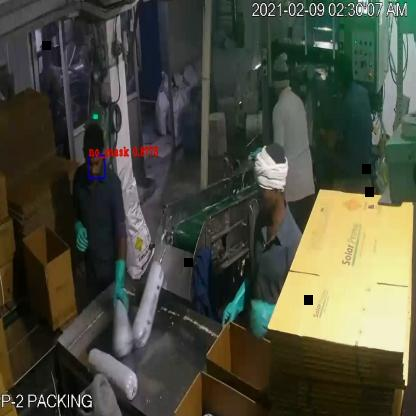glove: (218, 262, 254, 334), (244, 294, 288, 340), (107, 252, 135, 320), (67, 210, 93, 261)
no_glove: (318, 116, 342, 156)
